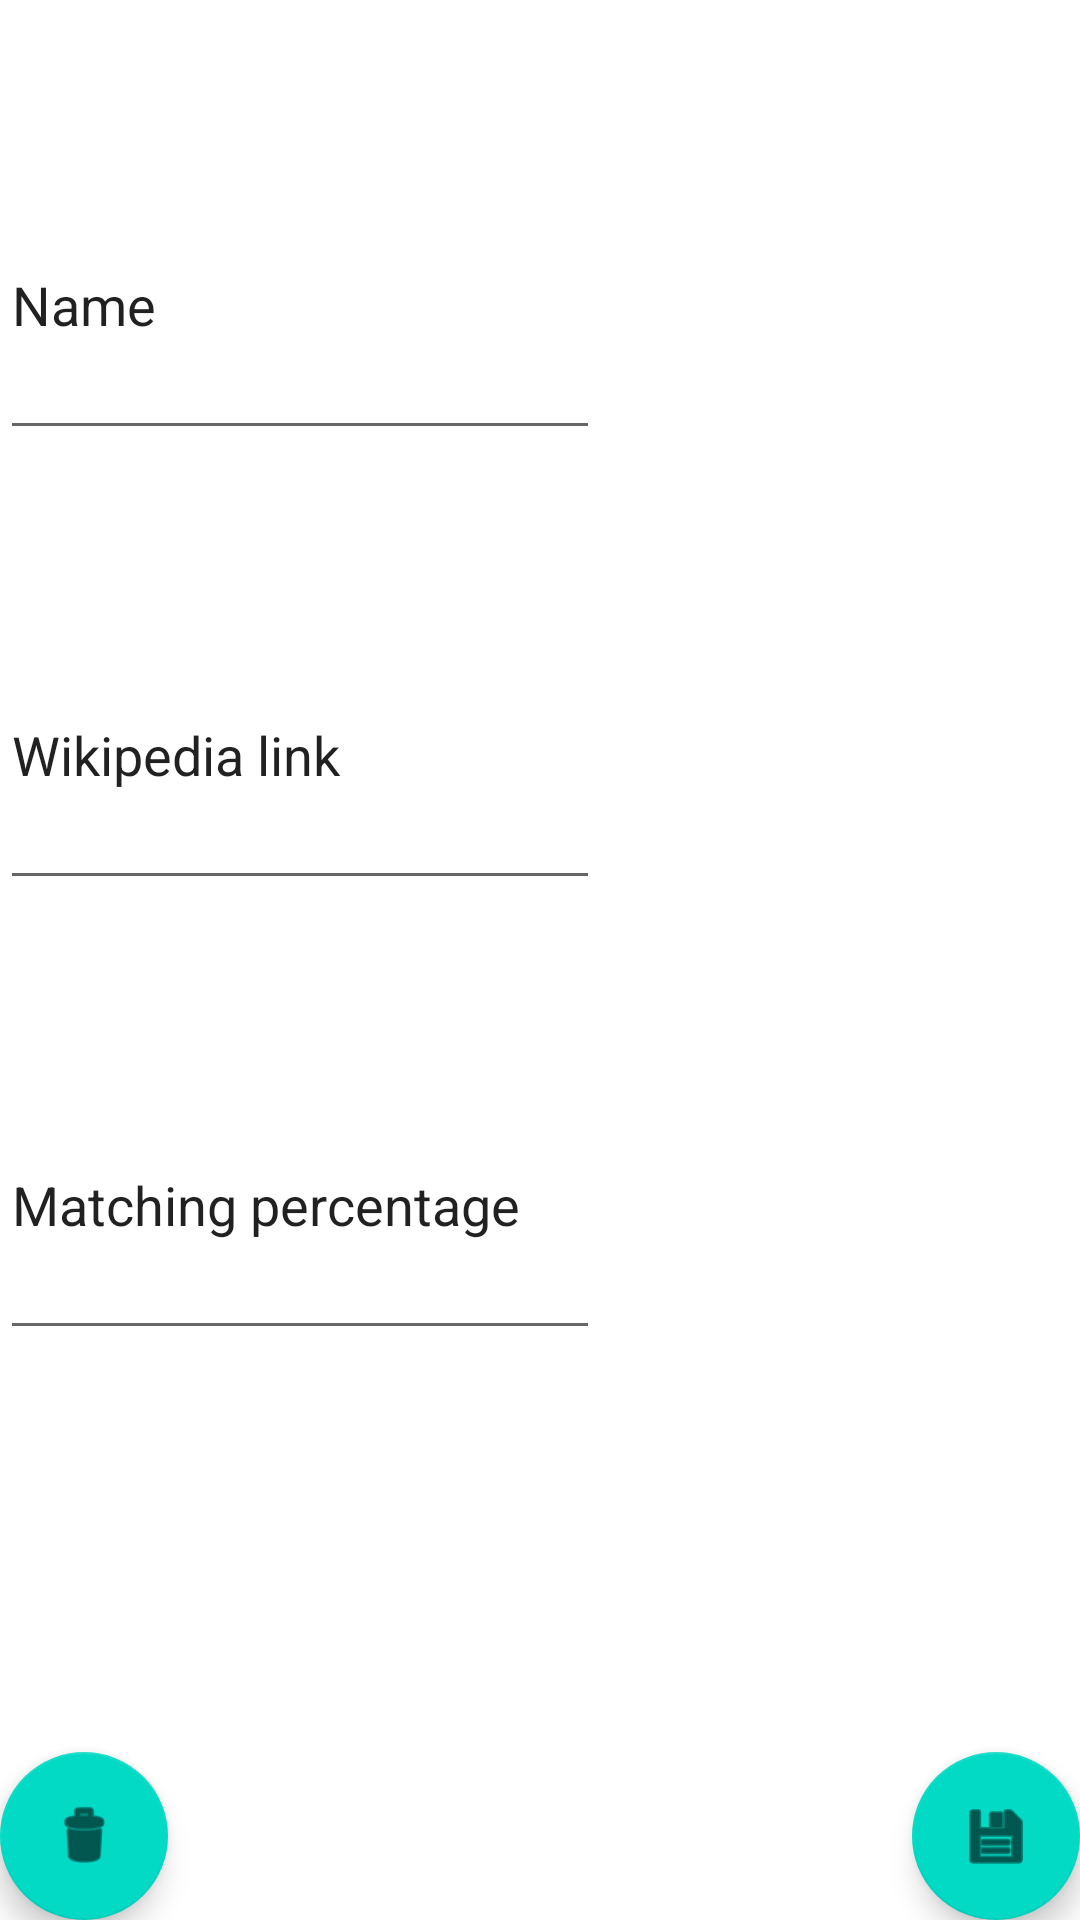

Where to tap for icons on this 1080px×1920px app screen, as [x,y]:
delete: [84,1836]
save: [996,1836]
